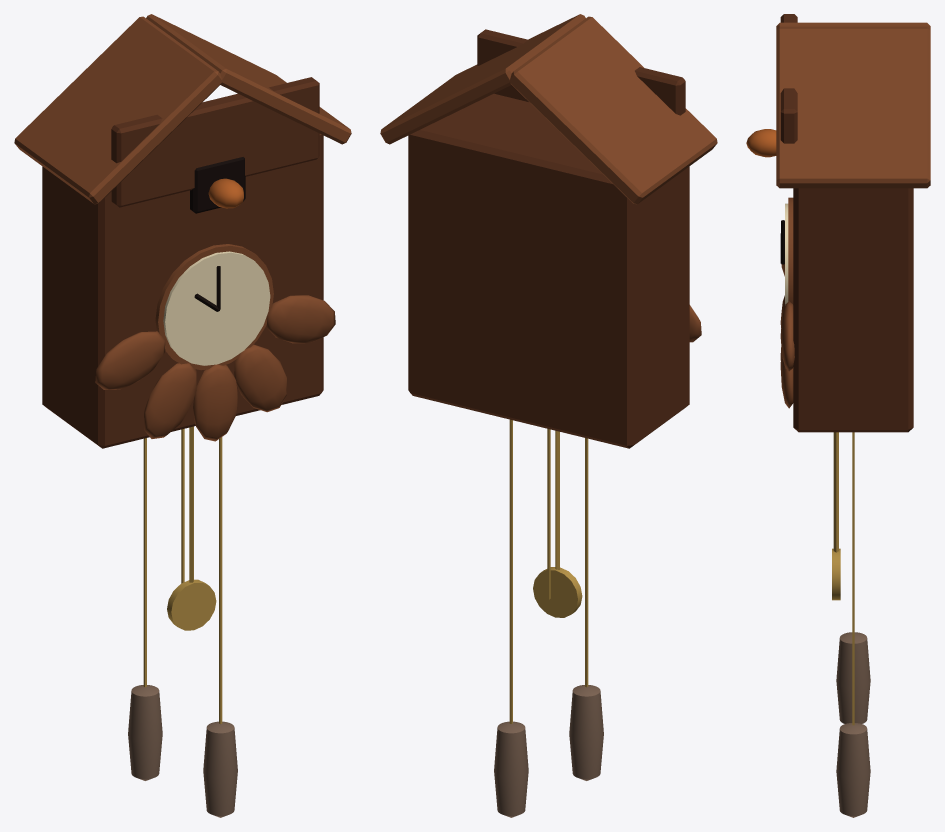
The model's file is PR_CuckooClock.fbx.
The picture shows the model from 3 angles, left to right: view 1: azimuth 30°, elevation 25°; view 2: azimuth 150°, elevation 25°; view 3: azimuth 270°, elevation 25°; orthographic projection.
Visible parts, largest first — view 1: PR_CuckooClock_WoodDark, PR_CuckooClock_Wood, PR_CuckooClock_Dial, PR_CuckooClock_Rust, PR_CuckooClock_Brass, PR_CuckooClock_Line, PR_CuckooClock_Bird; view 2: PR_CuckooClock_WoodDark, PR_CuckooClock_Wood, PR_CuckooClock_Rust, PR_CuckooClock_Brass; view 3: PR_CuckooClock_WoodDark, PR_CuckooClock_Wood, PR_CuckooClock_Rust, PR_CuckooClock_Brass, PR_CuckooClock_Bird, PR_CuckooClock_Dial.
Boxes of the visible parts, left/top/right/bottom form: PR_CuckooClock_WoodDark: left=42, top=77, right=323, bottom=448; PR_CuckooClock_Wood: left=14, top=14, right=351, bottom=441; PR_CuckooClock_Dial: left=163, top=251, right=270, bottom=365; PR_CuckooClock_Rust: left=128, top=685, right=237, bottom=817; PR_CuckooClock_Brass: left=143, top=426, right=222, bottom=723; PR_CuckooClock_Line: left=190, top=157, right=245, bottom=311; PR_CuckooClock_Bird: left=208, top=178, right=243, bottom=208; PR_CuckooClock_WoodDark: left=408, top=29, right=689, bottom=448; PR_CuckooClock_Wood: left=380, top=14, right=717, bottom=342; PR_CuckooClock_Rust: left=494, top=685, right=603, bottom=817; PR_CuckooClock_Brass: left=509, top=419, right=588, bottom=723; PR_CuckooClock_WoodDark: left=780, top=14, right=913, bottom=432; PR_CuckooClock_Wood: left=776, top=22, right=930, bottom=408; PR_CuckooClock_Rust: left=836, top=632, right=870, bottom=817; PR_CuckooClock_Brass: left=832, top=432, right=854, bottom=725; PR_CuckooClock_Bird: left=746, top=129, right=776, bottom=157; PR_CuckooClock_Dial: left=785, top=203, right=788, bottom=305.
Bounding box in the file's own units: 0.3489 × 0.9961 × 0.215.
